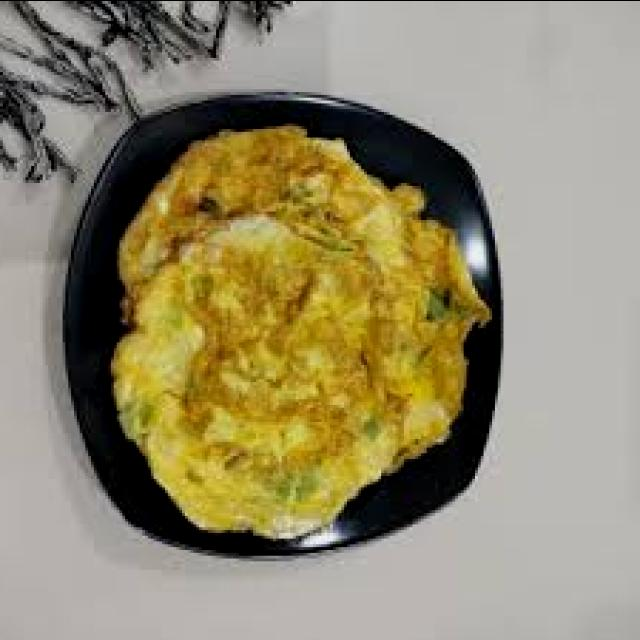telur dadar: (111, 119, 492, 540)
